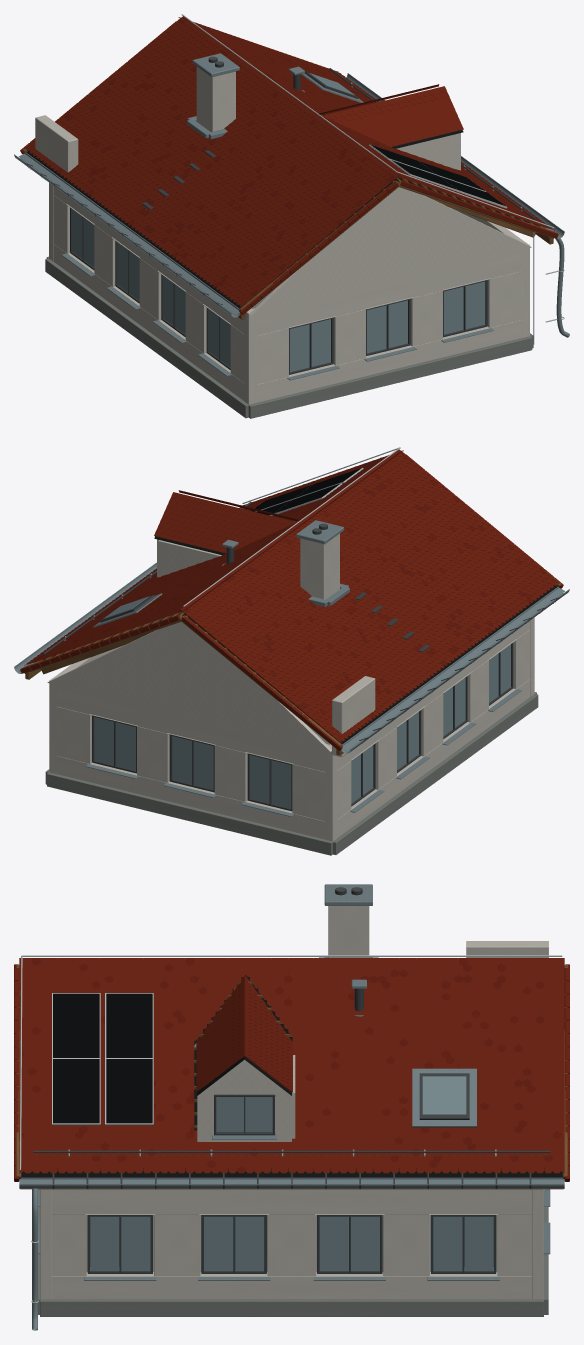
The model's file is uebersicht.glb.
The picture shows the model from 3 angles, top to bottom: view 1: azimuth 30°, elevation 25°; view 2: azimuth 150°, elevation 25°; view 3: azimuth 270°, elevation 25°; orthographic projection. The views are drawn at different scales.
Parts seen in each view (by area): view 1: Bauteil_s01_deckung, Bauteil_g02_tragwerk.001, Bauteil_g02_tragwerk.004, Bauteil_g02_tragwerk, Bauteil_s10_deckung.001, Bauteil_s01_deckung.001, Bauteil_g02_tragwerk.003, Bauteil_s04_deckung, Bauteil_s03_deckung, Schornsteinschaft, Bauteil_s02_deckung, Anschlusswand Nachbarbauteil (+9 smaller); view 2: Bauteil_s01_deckung, Bauteil_g02_tragwerk.001, Bauteil_g02_tragwerk.004, Bauteil_g02_tragwerk, Bauteil_s10_deckung.001, Bauteil_s01_deckung.001, Bauteil_g02_tragwerk.003, Bauteil_s04_deckung, Bauteil_s03_deckung, Schornsteinschaft, Bauteil_s02_deckung, Anschlusswand Nachbarbauteil (+8 smaller); view 3: Bauteil_s01_deckung, Bauteil_g02_tragwerk.001, Bauteil_g02_tragwerk.004, Bauteil_a01_deckung.001, Bauteil_g02_tragwerk, Bauteil_s10_deckung.001, Bauteil_s01_deckung.001, Bauteil_s03_deckung, Bauteil_s10_tragwerk, Bauteil_g01_zusatzebene, Bauteil_g02_tragwerk.003, Bauteil_s02_deckung (+16 smaller).
Part boxes in pixels (x1,y1,x2,y2): Bauteil_s01_deckung: (24,16,554,306); Bauteil_g02_tragwerk.001: (49,183,531,404); Bauteil_g02_tragwerk.004: (72,209,485,372); Bauteil_g02_tragwerk: (45,256,533,418); Bauteil_s10_deckung.001: (322,86,463,146); Bauteil_s01_deckung.001: (56,17,528,295); Bauteil_g02_tragwerk.003: (70,207,487,374); Bauteil_s04_deckung: (20,21,558,314); Bauteil_s03_deckung: (14,73,564,317); Schornsteinschaft: (196,66,235,131); Bauteil_s02_deckung: (18,153,559,315); Anschlusswand Nachbarbauteil: (35,115,78,172); Bauteil_s01_deckung: (24,449,559,742); Bauteil_g02_tragwerk.001: (47,617,534,841); Bauteil_g02_tragwerk.004: (94,644,510,808); Bauteil_g02_tragwerk: (45,692,538,855); Bauteil_s10_deckung.001: (154,492,296,553); Bauteil_s01_deckung.001: (38,454,545,718); Bauteil_g02_tragwerk.003: (92,643,513,811); Bauteil_s04_deckung: (20,454,563,750); Bauteil_s03_deckung: (14,562,569,753); Schornsteinschaft: (300,533,339,599); Bauteil_s02_deckung: (19,587,564,751); Anschlusswand Nachbarbauteil: (332,676,375,756); Bauteil_s01_deckung: (19,958,564,1173); Bauteil_g02_tragwerk.001: (39,1189,544,1298); Bauteil_g02_tragwerk.004: (90,1216,493,1271); Bauteil_a01_deckung.001: (53,993,152,1123); Bauteil_g02_tragwerk: (38,1207,548,1316); Bauteil_s10_deckung.001: (196,975,292,1092); Bauteil_s01_deckung.001: (19,958,561,1173); Bauteil_s03_deckung: (19,1177,564,1188); Bauteil_s10_tragwerk: (197,1055,295,1141); Bauteil_g01_zusatzebene: (21,975,562,1177); Bauteil_g02_tragwerk.003: (87,1215,496,1273); Bauteil_s02_deckung: (19,1179,564,1183).
Bounding box in the file's own units: 10.67 × 7.18 × 11.73.
14 materials, 6 textured.
